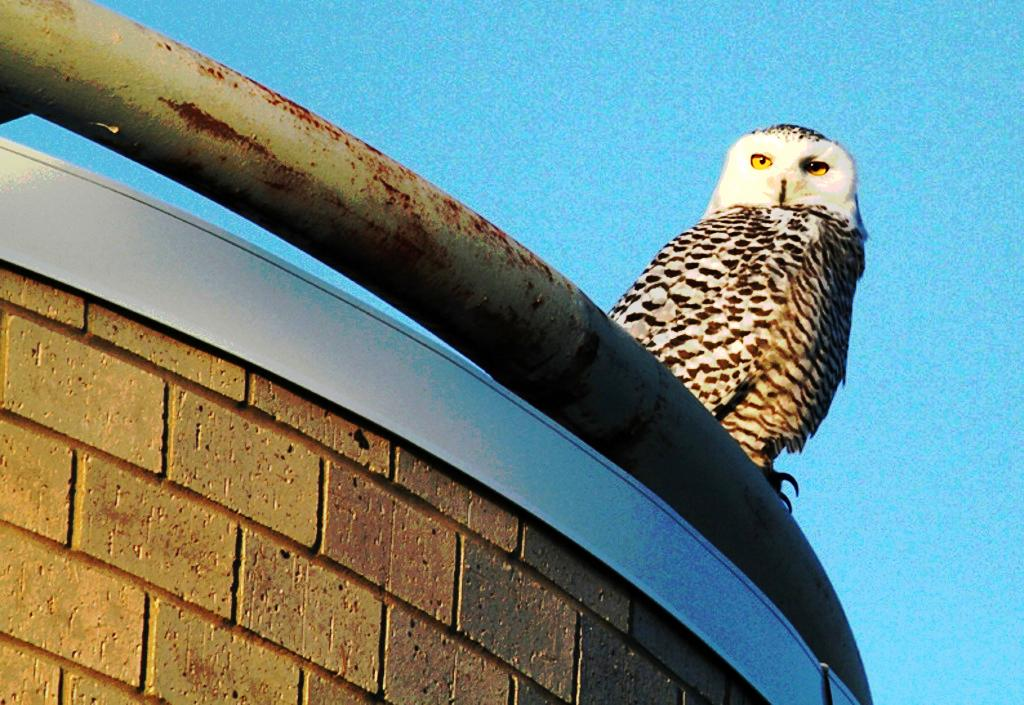Owl: (605, 121, 876, 513)
